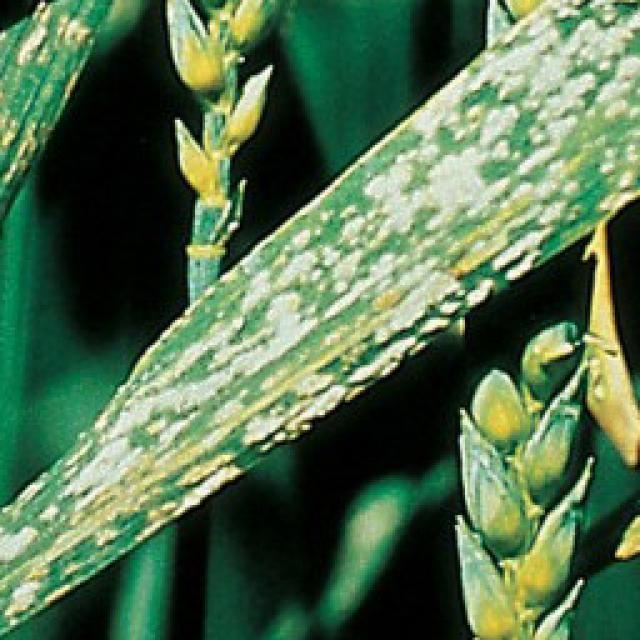Powdery_Mildew: (305, 0, 640, 375), (64, 306, 325, 553)
